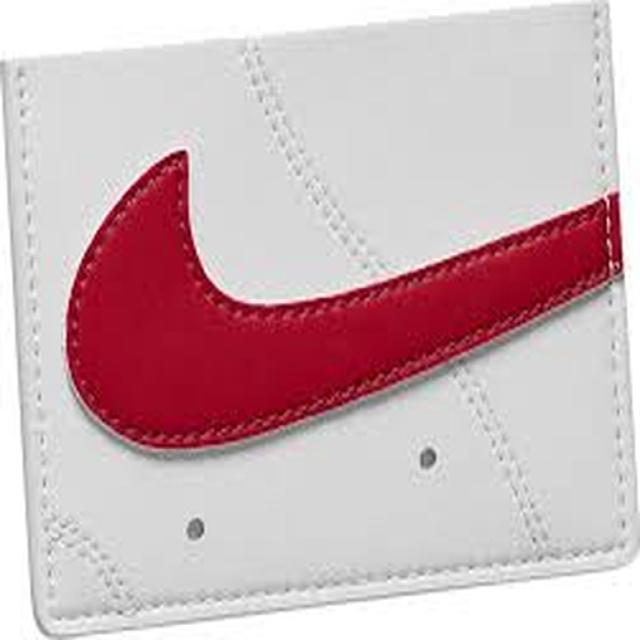wallet: (4, 44, 635, 617)
